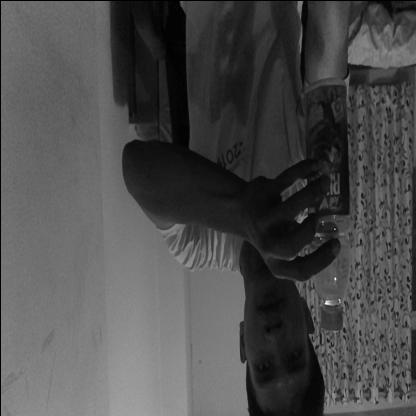plastic_bottles: (300, 82, 352, 335)
